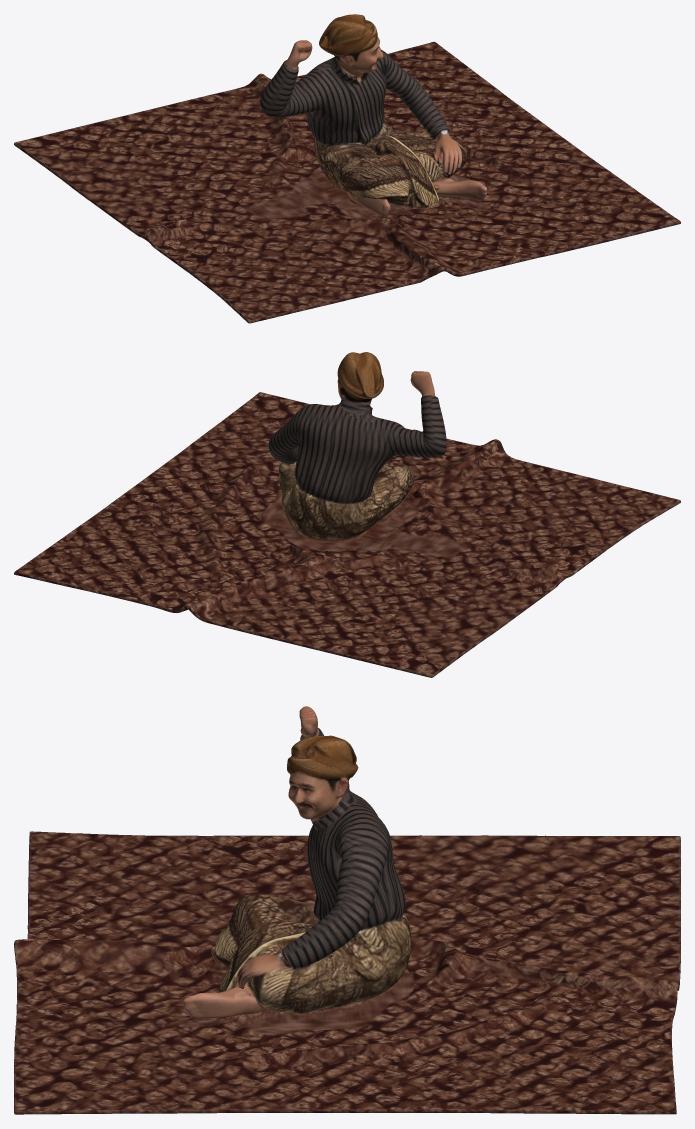
The model's file is bapak duduk.glb.
3 views of the same model, one above another, from view 1: azimuth 30°, elevation 25°; view 2: azimuth 150°, elevation 25°; view 3: azimuth 270°, elevation 25° (orthographic). The views are drawn at different scales.
Parts seen in each view (by area): view 1: mesh_node; view 2: mesh_node; view 3: mesh_node.
Part boxes in pixels (x1,y1,x2,y2): mesh_node: (14,14,680,323); mesh_node: (14,352,680,677); mesh_node: (14,706,680,1114).
Bounding box in the file's own units: 1.89 × 0.7391 × 1.9.
1 material, 1 textured.
